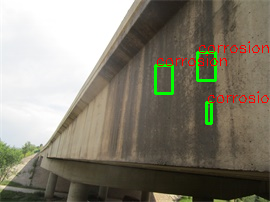corrosion: (197, 52, 215, 80), (155, 65, 172, 93), (206, 102, 211, 123)
